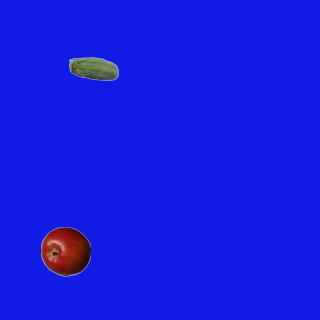Apple Braeburn: (40, 226, 90, 276)
Corn Husk: (68, 45, 118, 95)
